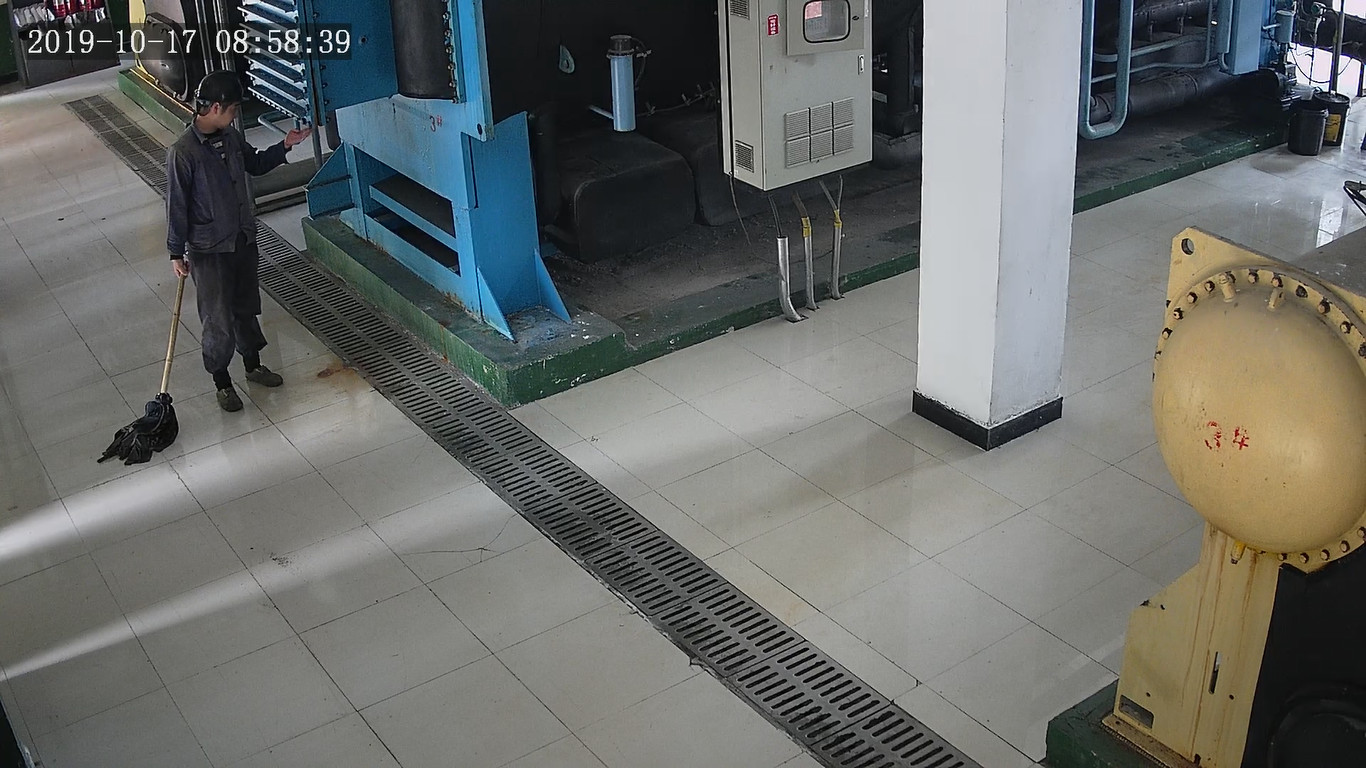helmet: (195, 69, 249, 104)
